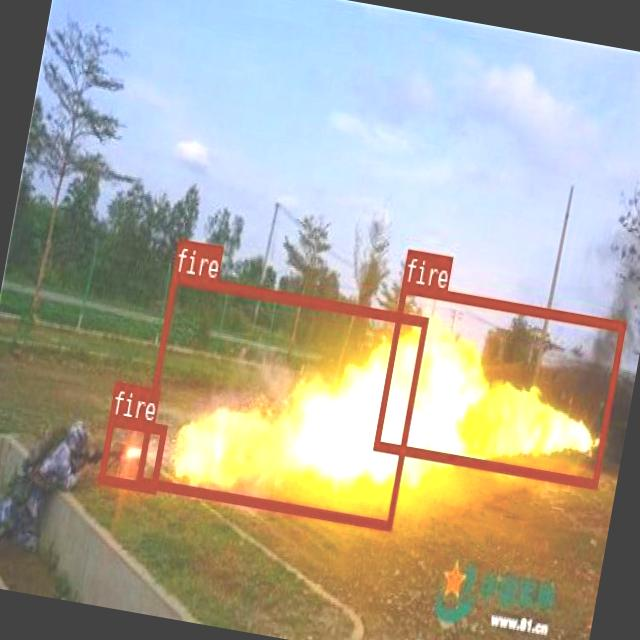fire: (134, 270, 428, 530), (372, 282, 625, 487), (97, 413, 166, 492)
